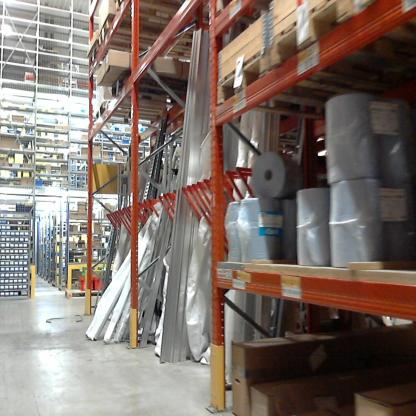pallet: (217, 48, 390, 128), (267, 8, 415, 80), (100, 13, 194, 59), (106, 71, 200, 115), (88, 40, 180, 81), (92, 99, 192, 132), (62, 285, 114, 302)
small_load_carrier: (77, 274, 93, 291), (93, 275, 107, 291)
